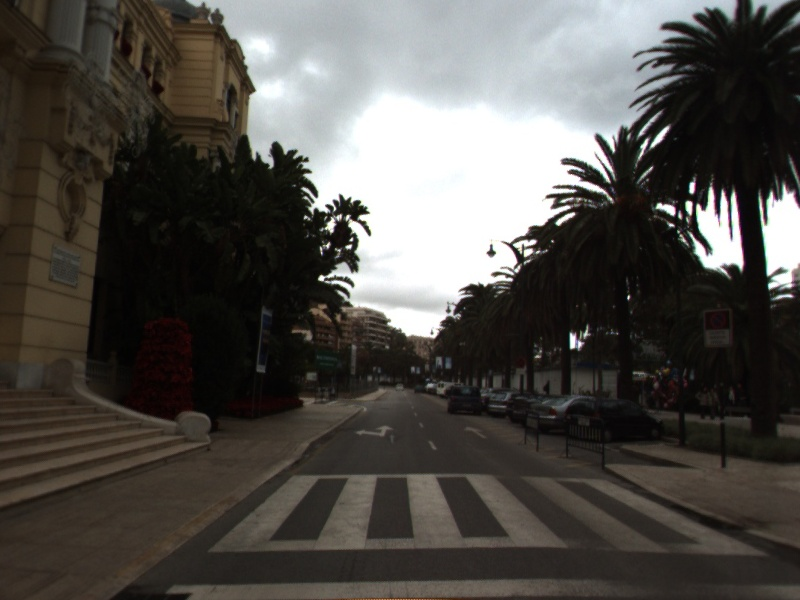STRAIGHT: (462, 424, 490, 441)
STRAIGHT_LEFT: (352, 423, 396, 439)
